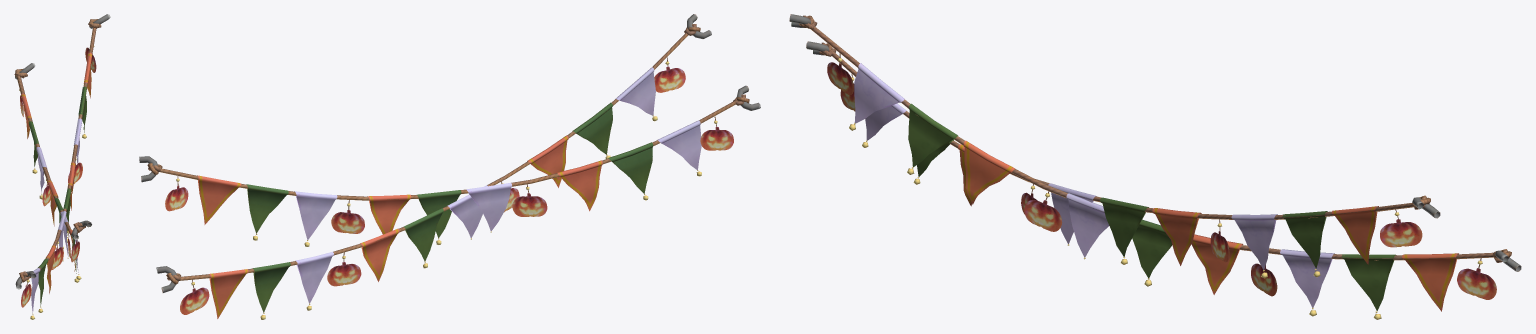
Rendered from pref_sm_beach_WSJ_decorate_light01_a_lv3.fbx.
3 views of the same model, side by side, from view 1: azimuth 30°, elevation 25°; view 2: azimuth 150°, elevation 25°; view 3: azimuth 270°, elevation 25° (orthographic). The views are drawn at different scales.
Visible parts, largest first — view 1: pref_sm_beach_WSJ_decorate_light01_a_lv3; view 2: pref_sm_beach_WSJ_decorate_light01_a_lv3; view 3: pref_sm_beach_WSJ_decorate_light01_a_lv3.
Boxes of the visible parts, <box> form: pref_sm_beach_WSJ_decorate_light01_a_lv3: <box>14,14,110,319</box>; pref_sm_beach_WSJ_decorate_light01_a_lv3: <box>139,14,760,319</box>; pref_sm_beach_WSJ_decorate_light01_a_lv3: <box>789,14,1521,319</box>.
Size of the model in its own units: 11.6 by 5.29 by 16.97.
